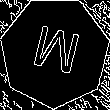M_S: (27, 22, 83, 83)
